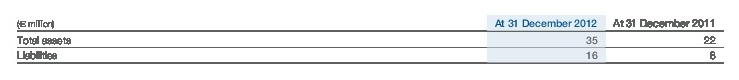table: (0, 0, 739, 80)
